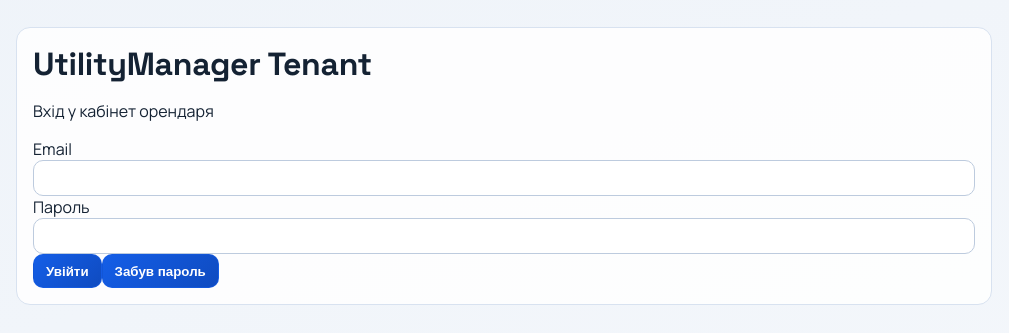
Test: Tenant flow › shows localized error for invalid credentials
Type "tenant@example.com" into the field labelled "Email" at (504, 178), box top-left (33, 160), bottom-right (975, 196)
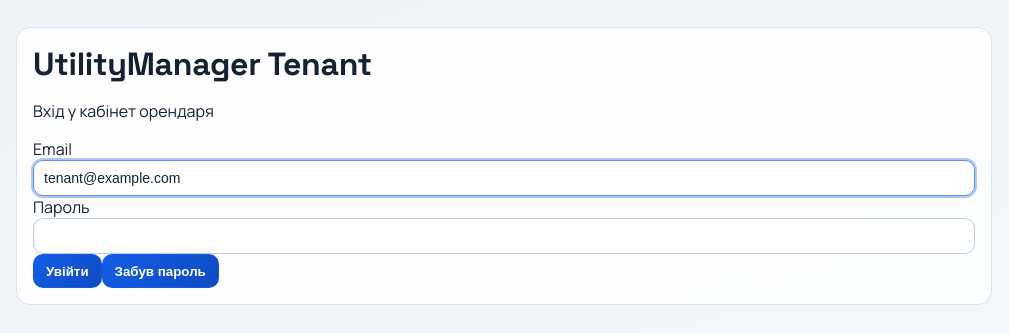
Type "StrongPass1" into the password field labelled "Пароль" at (504, 236), box top-left (33, 218), bottom-right (975, 254)
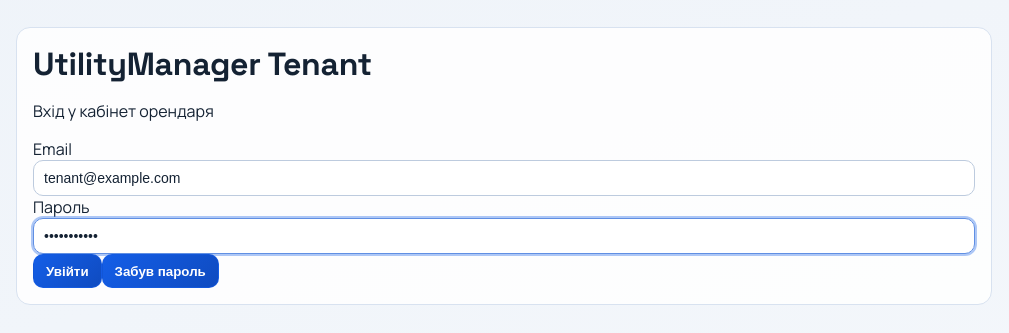
Click the button "Увійти" at (67, 271), box top-left (33, 254), bottom-right (102, 288)
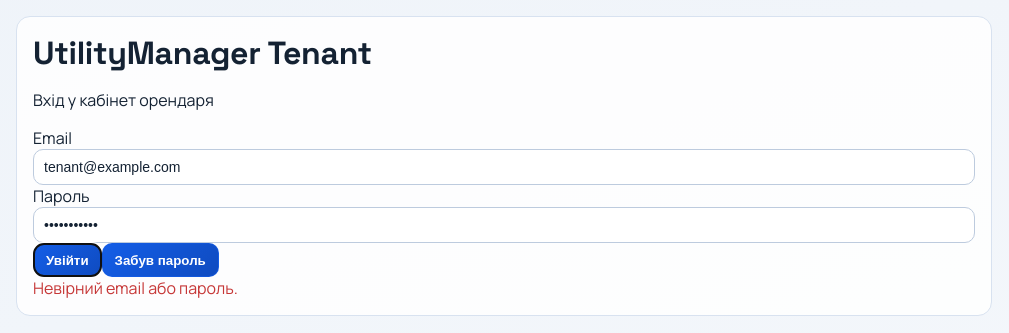
Expected: the text "Невірний email або пароль." is shown, top-left (33, 277), bottom-right (238, 299)
